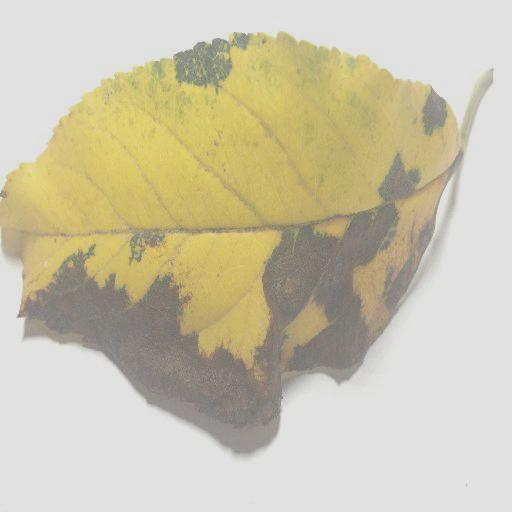Brown_Spot: (19, 226, 438, 446), (166, 32, 258, 95), (360, 161, 420, 199), (421, 86, 452, 135)
